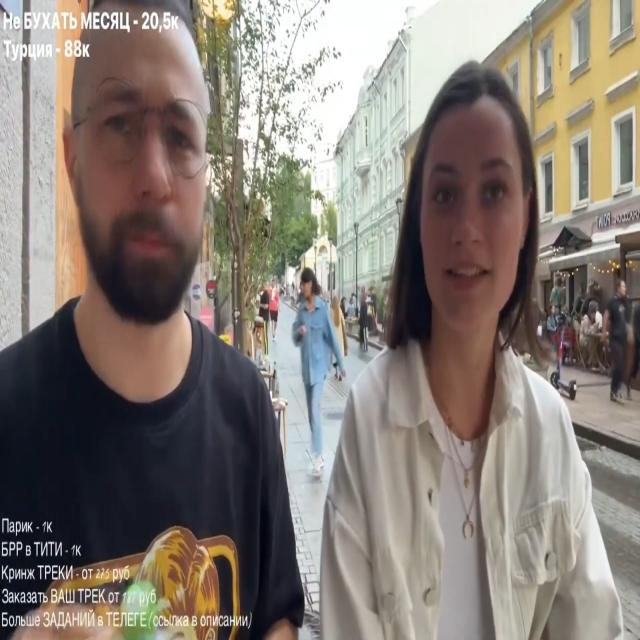Person: (314, 44, 614, 640), (0, 14, 291, 621), (289, 272, 346, 470), (602, 280, 637, 407), (578, 306, 601, 373)
